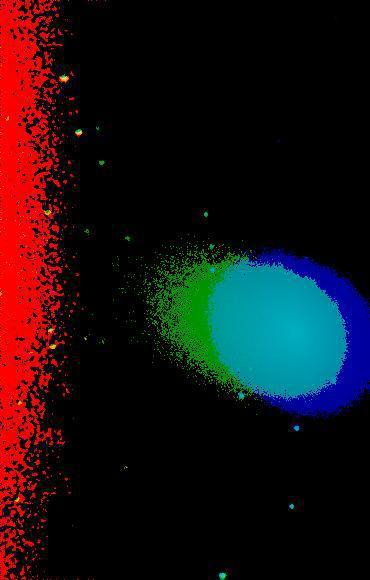star: (203, 362, 233, 392)
